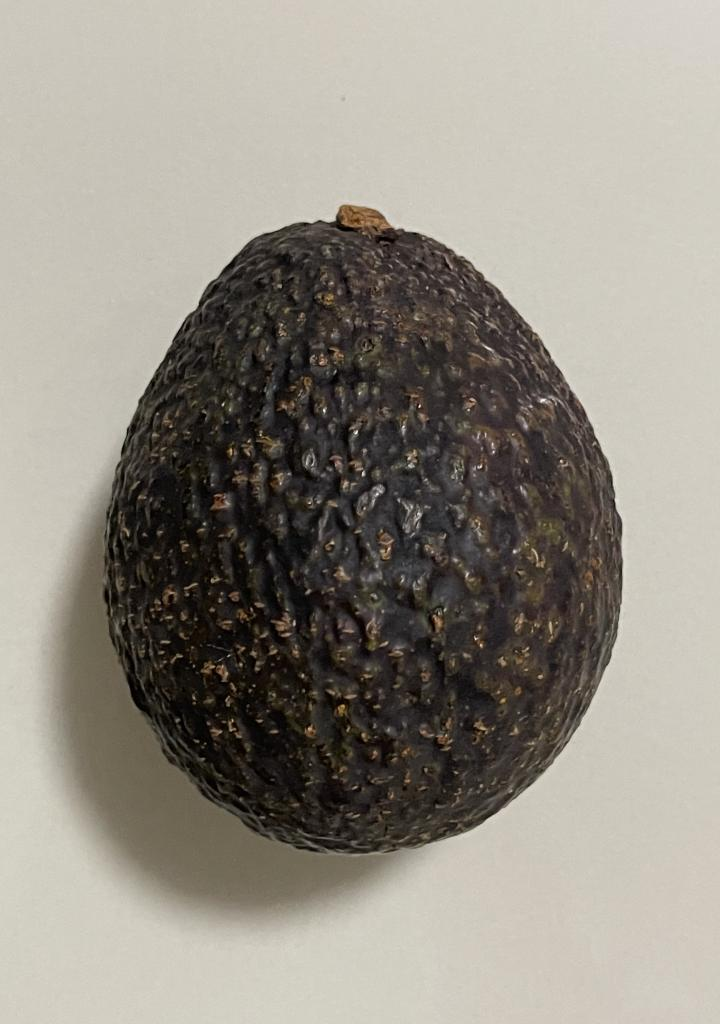Level2: (97, 198, 630, 865)
